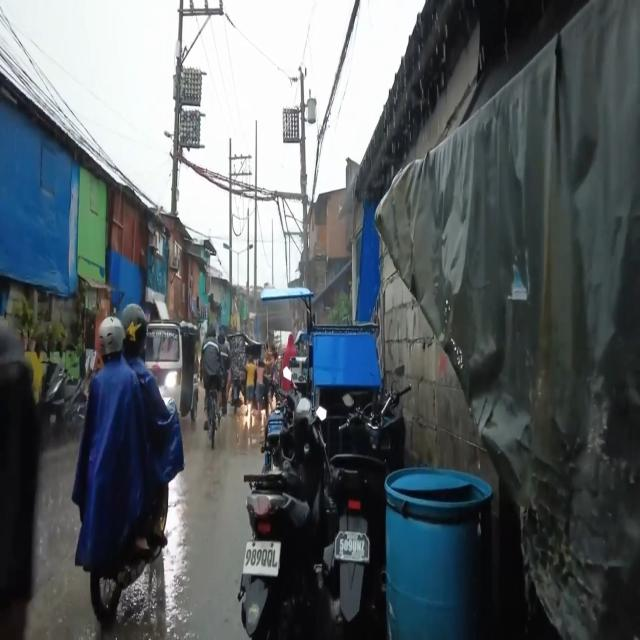full: (121, 304, 148, 350)
half: (98, 313, 124, 357)
